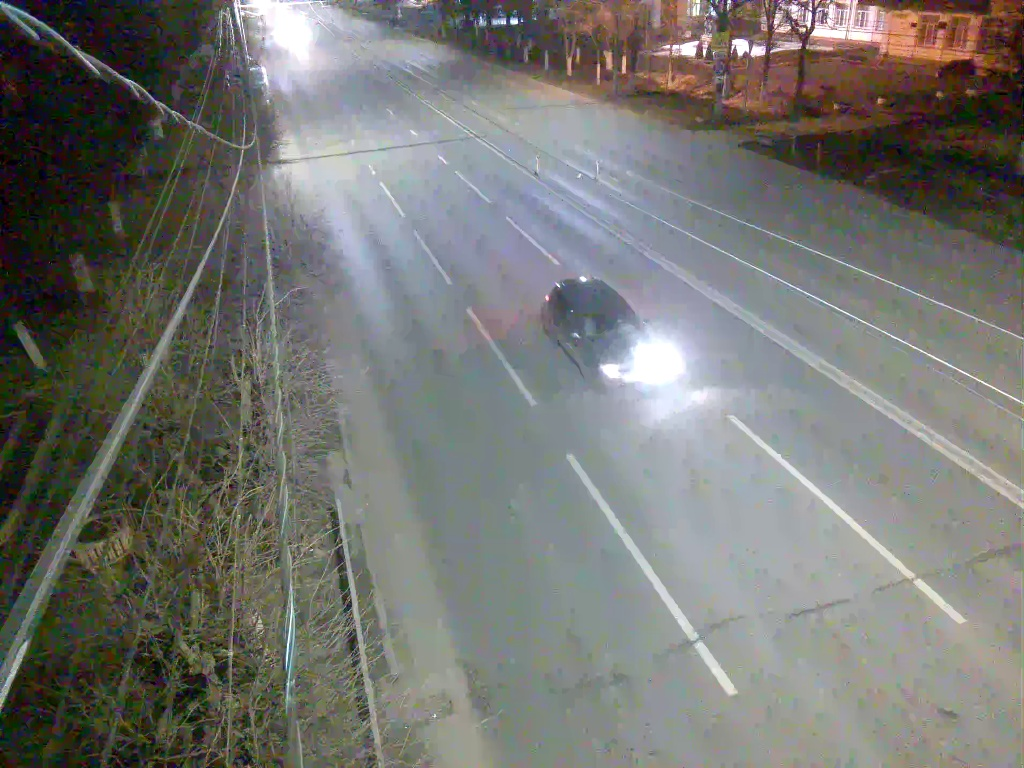car: (537, 267, 674, 403)
